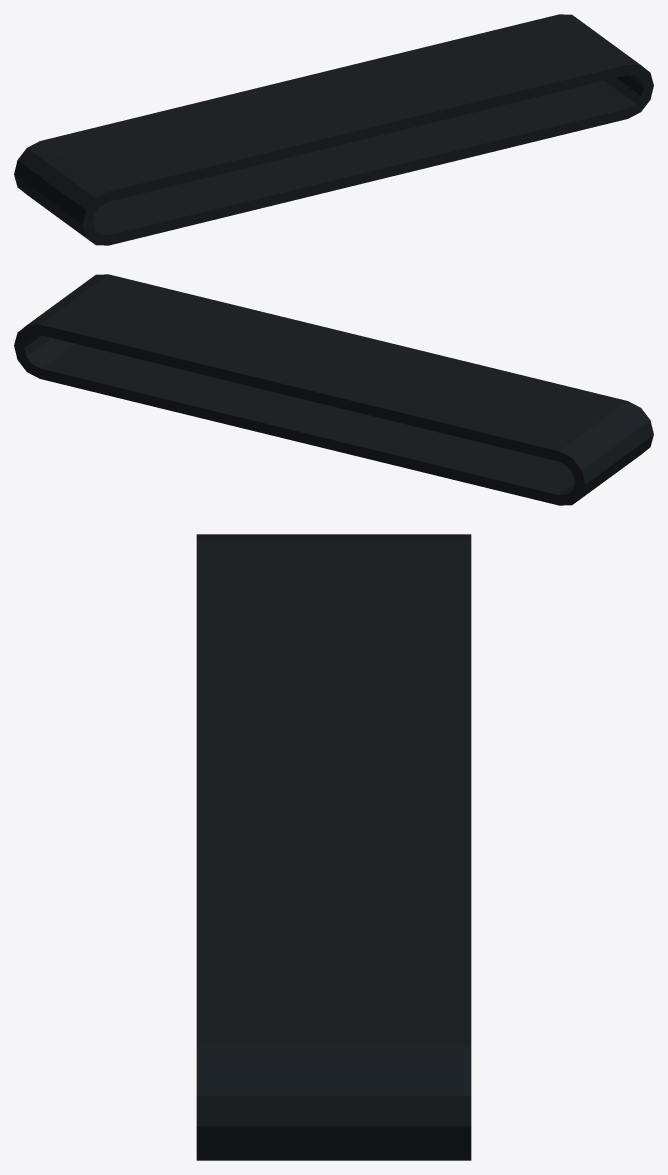
File: prop20.FBX
The picture shows the model from 3 angles, top to bottom: view 1: azimuth 30°, elevation 25°; view 2: azimuth 150°, elevation 25°; view 3: azimuth 270°, elevation 25°; orthographic projection. The views are drawn at different scales.
Visible parts, largest first — view 1: prop20; view 2: prop20; view 3: prop20.
Part boxes in pixels (box(x1,y1,x2,y2)): prop20: box(14, 14, 653, 245); prop20: box(14, 274, 653, 505); prop20: box(196, 534, 471, 1160).
Size of the model in its own units: 15.79 by 1.43 by 3.29.
